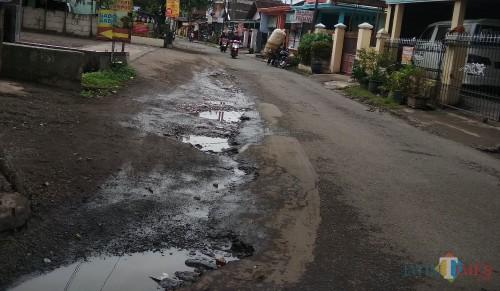Pothole: (140, 89, 316, 223), (10, 233, 273, 291), (205, 55, 277, 118)
